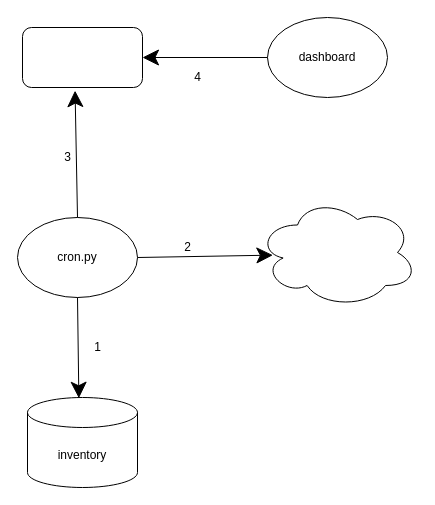
This 435x505 diagram has some shape labels left out. Each missing label, with the centre of its shape:
"network" goes at point (337, 252).
"time series database" goes at point (82, 57).
